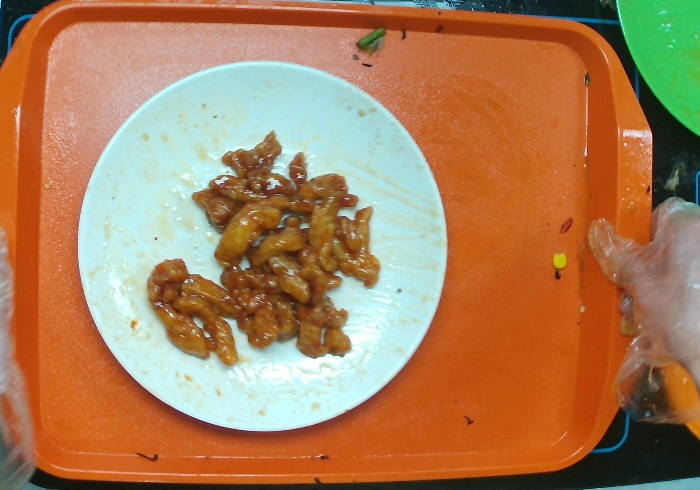HZYJPL-Bai_Se_Yuan_Pan: (73, 56, 452, 439)
